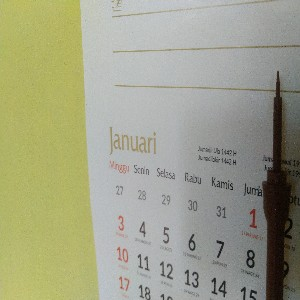solder: (260, 68, 292, 300)
